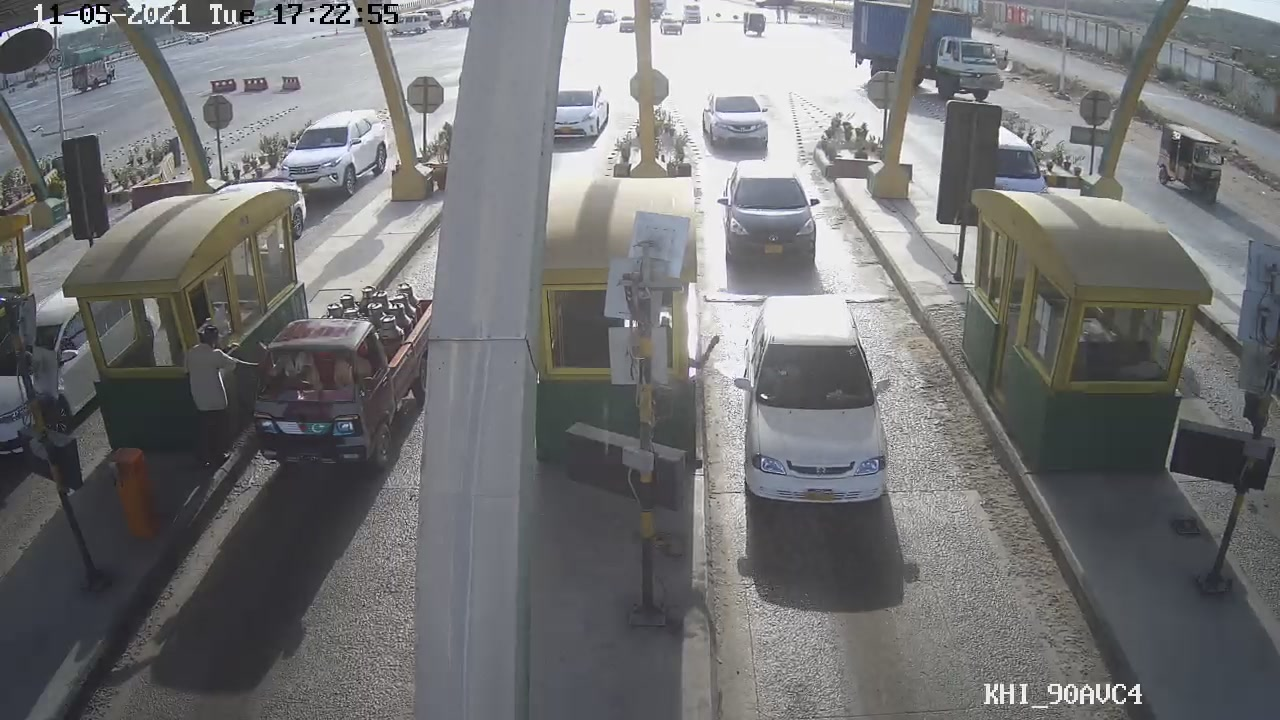F1: (738, 284, 903, 517), (707, 155, 836, 273)
